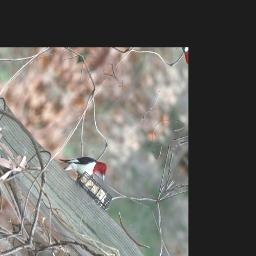Woodpecker: (53, 130, 116, 204)
